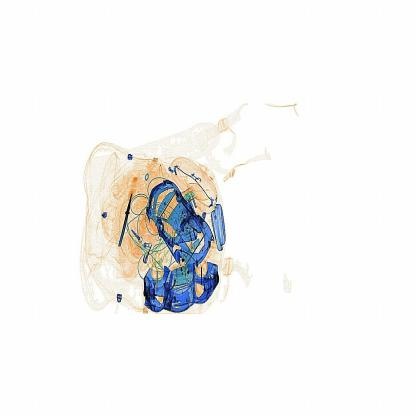gun: (114, 172, 140, 256)
